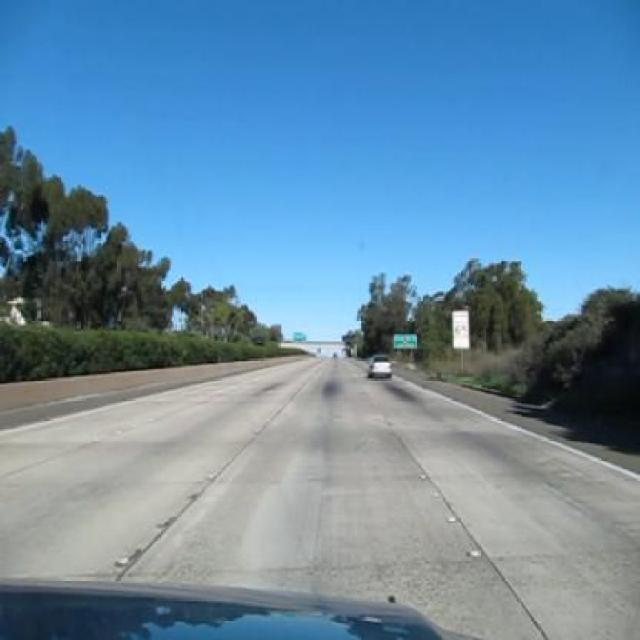speedLimit65: (451, 310, 470, 338)
